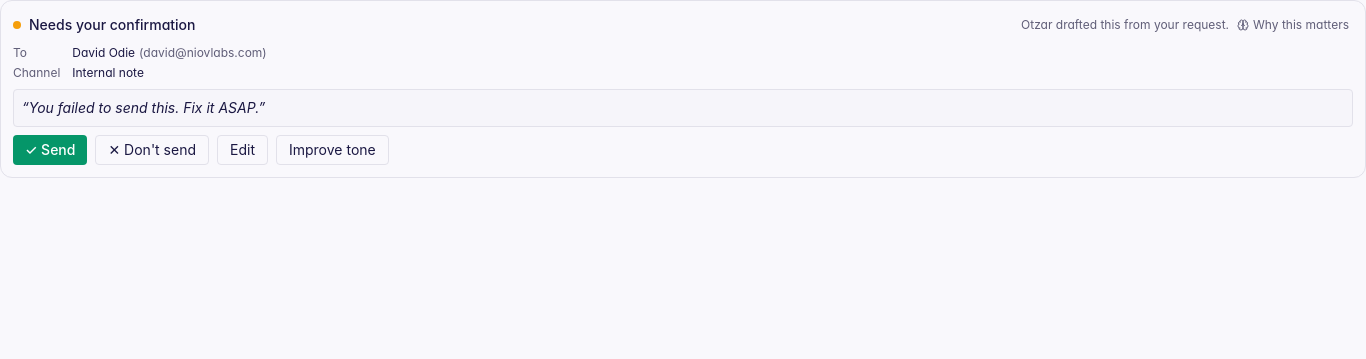
Test case: ProposedActionCard — advisory draft tone › does not offer a revision that contains an em dash (kept original)
The width and height of the screenshot is (1366, 359).
Click the button with test id "ctx-improve-tone-button". click: (332, 150)
box: [276,135,389,165]
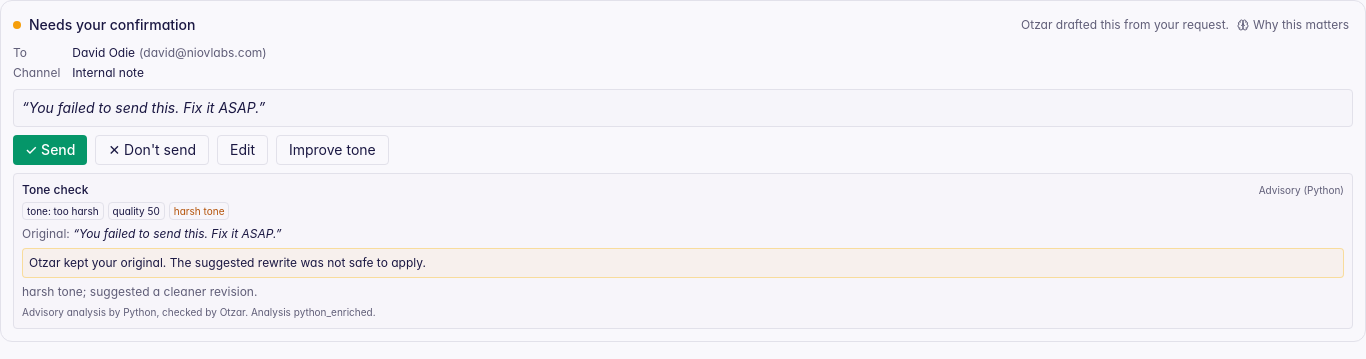
Expected: the text with test id "ctx-draft" shows "You failed to send this", [29,99,258,116]
Result: the text with test id "ctx-tone-unsafe" is shown at [22,248,1344,278]
